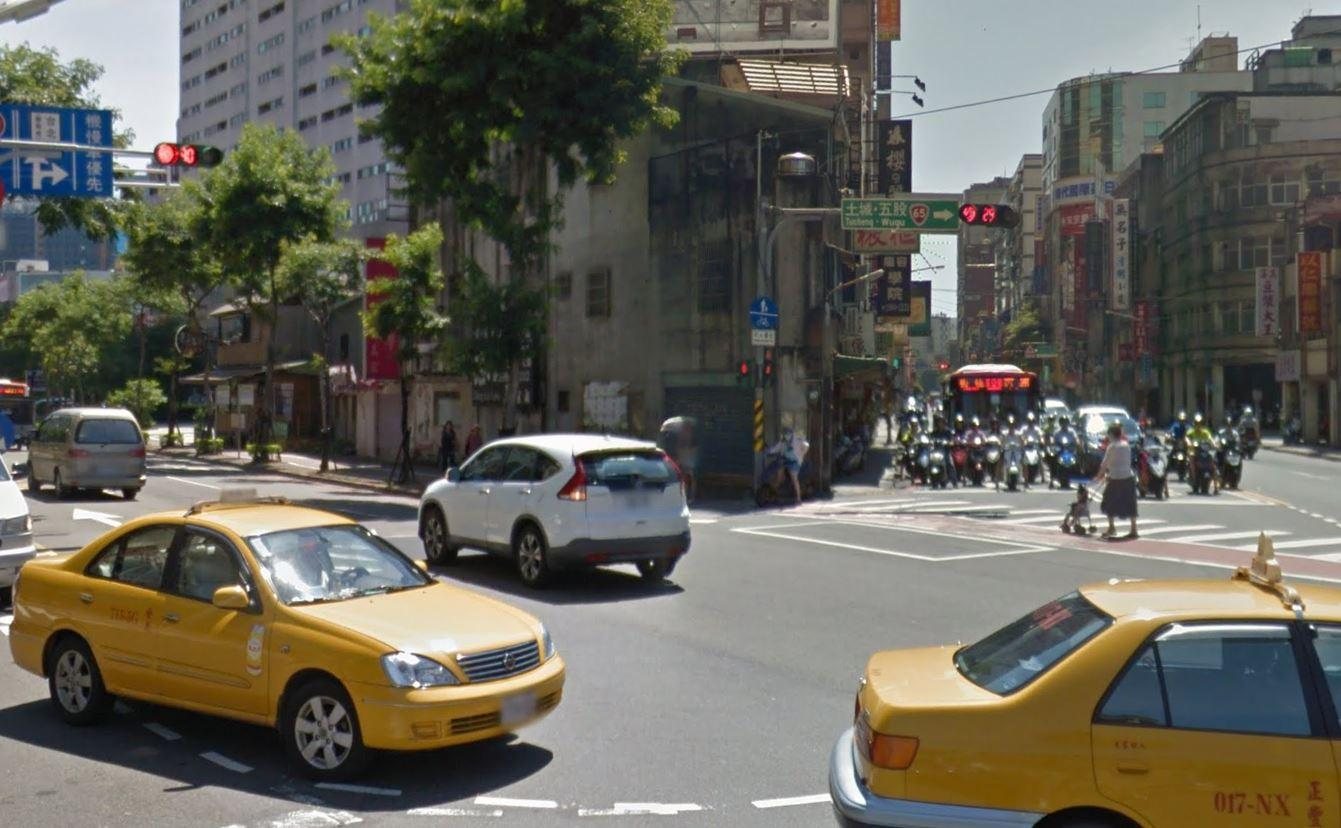red_traffic_light: (152, 139, 223, 172), (956, 201, 1021, 229)
